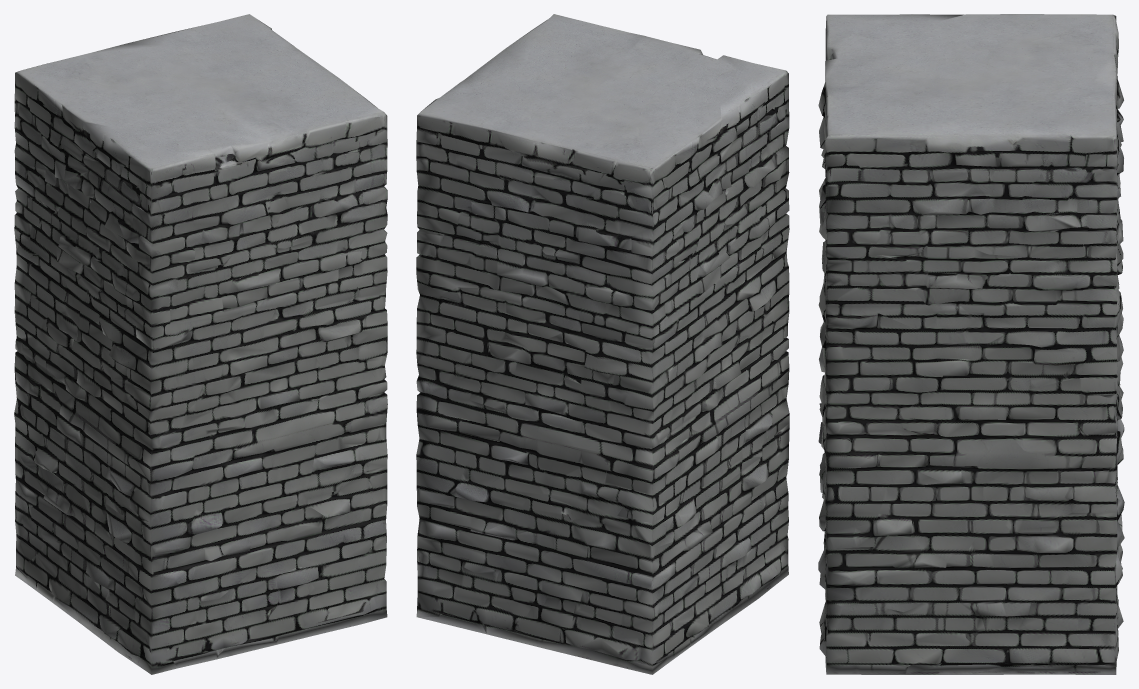
The model's file is prop-wall-panel.glb.
The picture shows the model from 3 angles, left to right: view 1: azimuth 30°, elevation 25°; view 2: azimuth 150°, elevation 25°; view 3: azimuth 270°, elevation 25°; orthographic projection. The views are drawn at different scales.
Size of the model in its own units: 1.03 by 2 by 1.03.
Materials: 1 (1 with a texture image).
